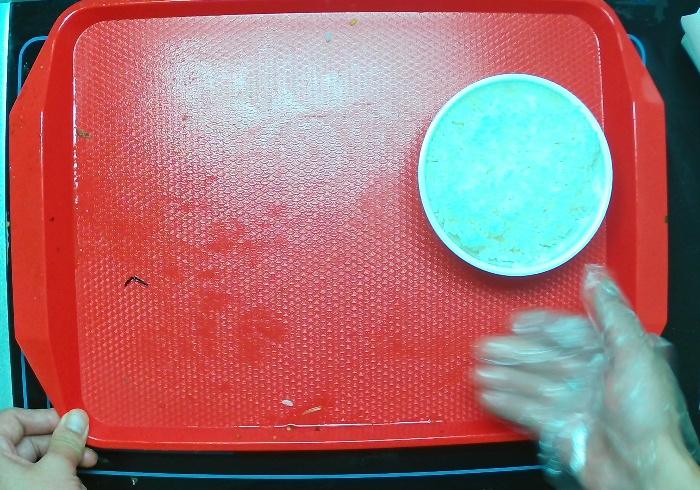YKMZ-Fan_Wan: (417, 73, 617, 278)
